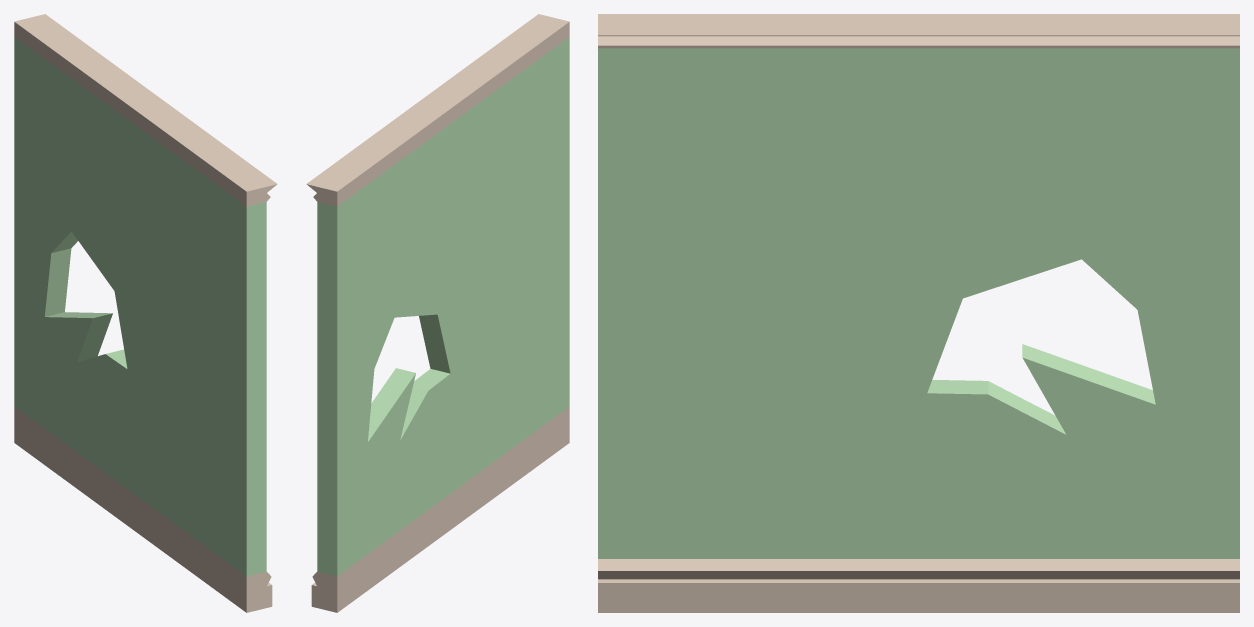
File: Wall_SmallHole6.fbx
The picture shows the model from 3 angles, left to right: view 1: azimuth 30°, elevation 25°; view 2: azimuth 150°, elevation 25°; view 3: azimuth 270°, elevation 25°; orthographic projection. The views are drawn at different scales.
Parts seen in each view (by area): view 1: Cube; view 2: Cube; view 3: Cube.
Part boxes in pixels (x1=…): Cube: x1=14, y1=14, x2=277, y2=612; Cube: x1=306, y1=14, x2=569, y2=612; Cube: x1=598, y1=14, x2=1239, y2=612.
Size of the model in its own units: 61.8 by 800 by 800.
